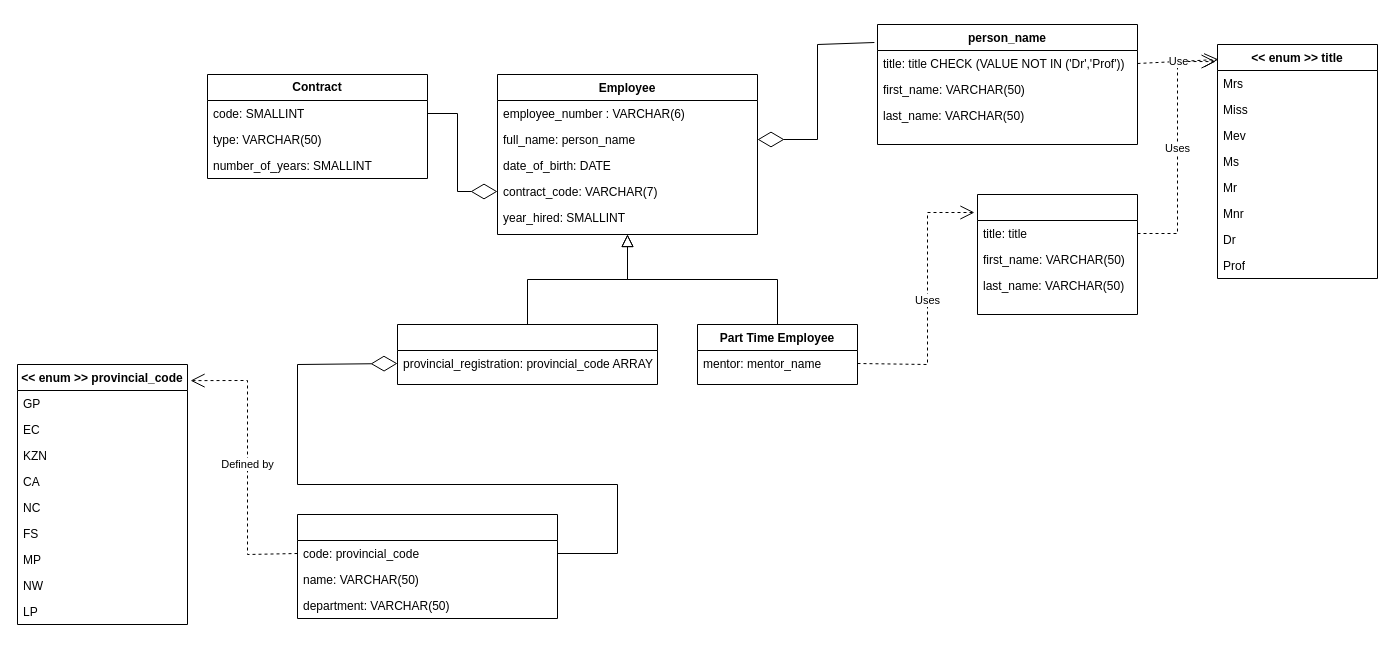
Some shapes in this 1395 by 645 pixel diagram are drawn without their labels. Here are the shapes that lost their labels. From the top down, the box of each, then its label:
(976, 194, 1138, 314): mentor_name
(396, 324, 658, 384): Full Time Employee
(296, 514, 558, 618): Province
